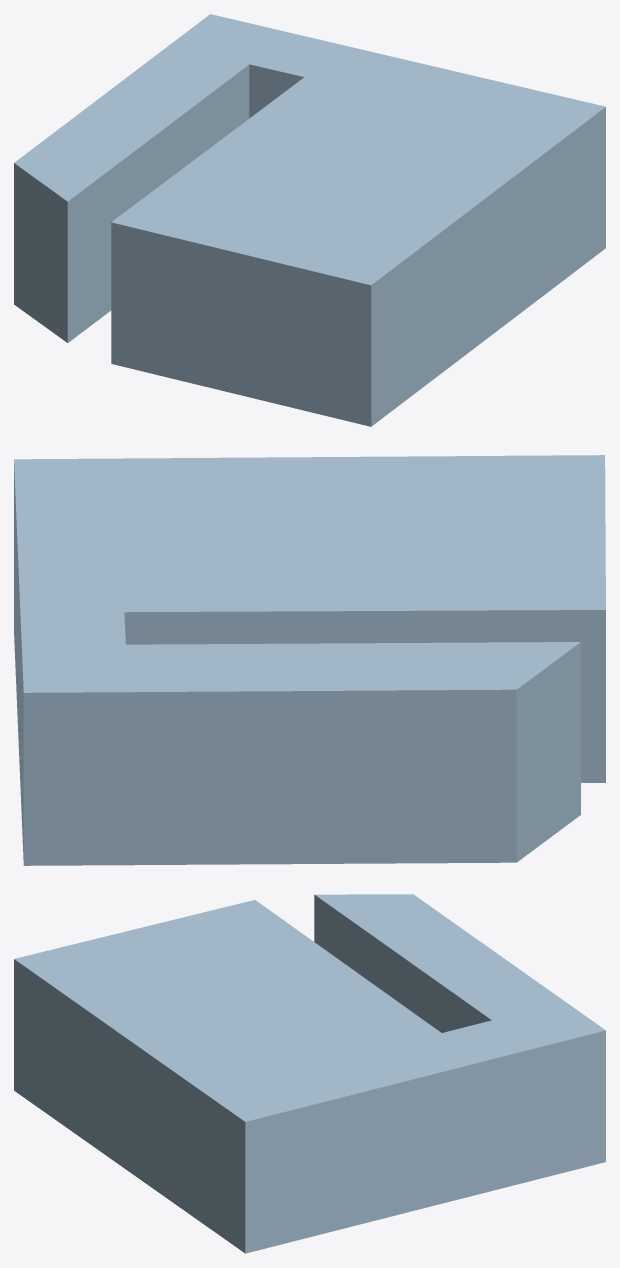
File: osm_way_223944208.glb
3 renders of one model, top to bottom at view 1: azimuth 30°, elevation 25°; view 2: azimuth 150°, elevation 25°; view 3: azimuth 270°, elevation 25°, orthographic. The views are drawn at different scales.
Parts seen in each view (by area): view 1: osm_way_223944208; view 2: osm_way_223944208; view 3: osm_way_223944208.
Boxes of the visible parts, x1,y1,x2,y2 form: osm_way_223944208: [14, 14, 605, 426]; osm_way_223944208: [14, 455, 605, 865]; osm_way_223944208: [14, 894, 605, 1253].
Bounding box in the file's own units: 82.08 × 22.13 × 90.19.
